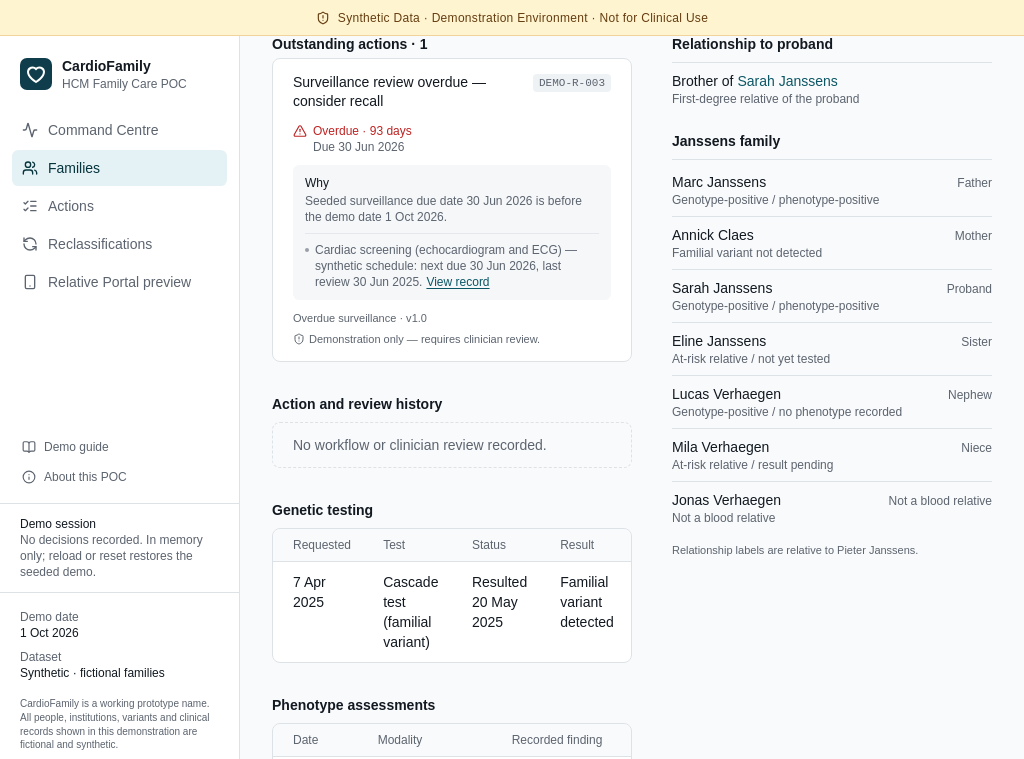
Test: Relative Profile › navigates to other family members from family connections
(page scrolled)
Click the link "Lucas Verhaegen" at [832, 402], box top-left (672, 376), bottom-right (992, 428)
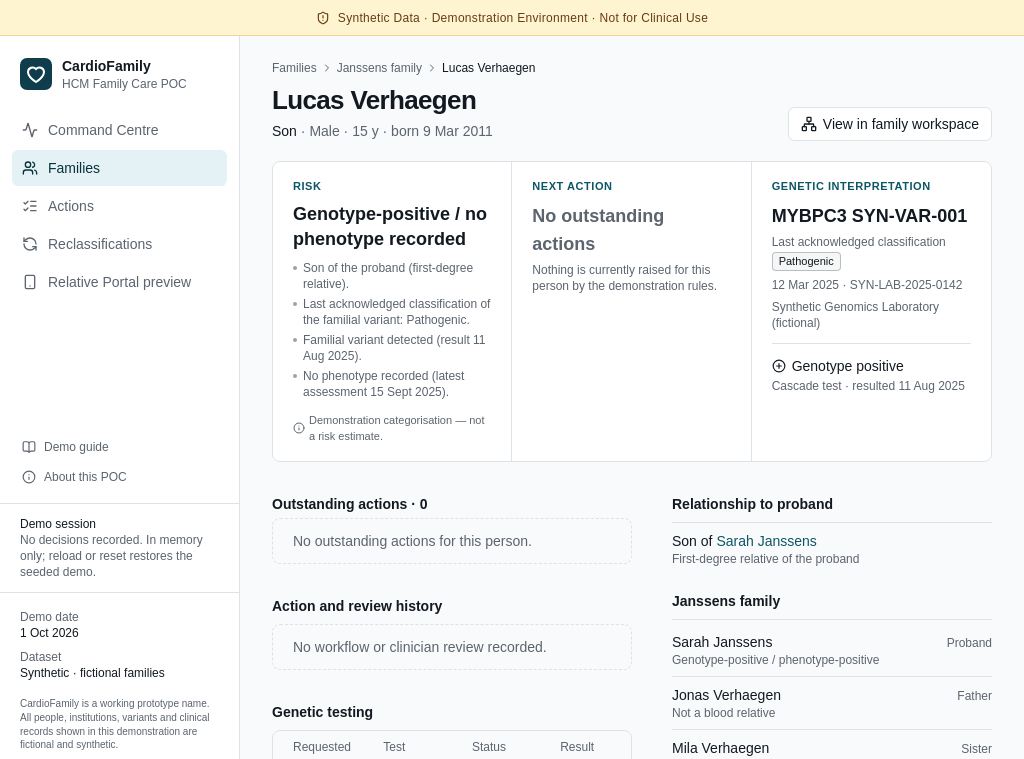
Check: the heading "Lucas Verhaegen" is shown, box top-left (272, 84), bottom-right (493, 116)
